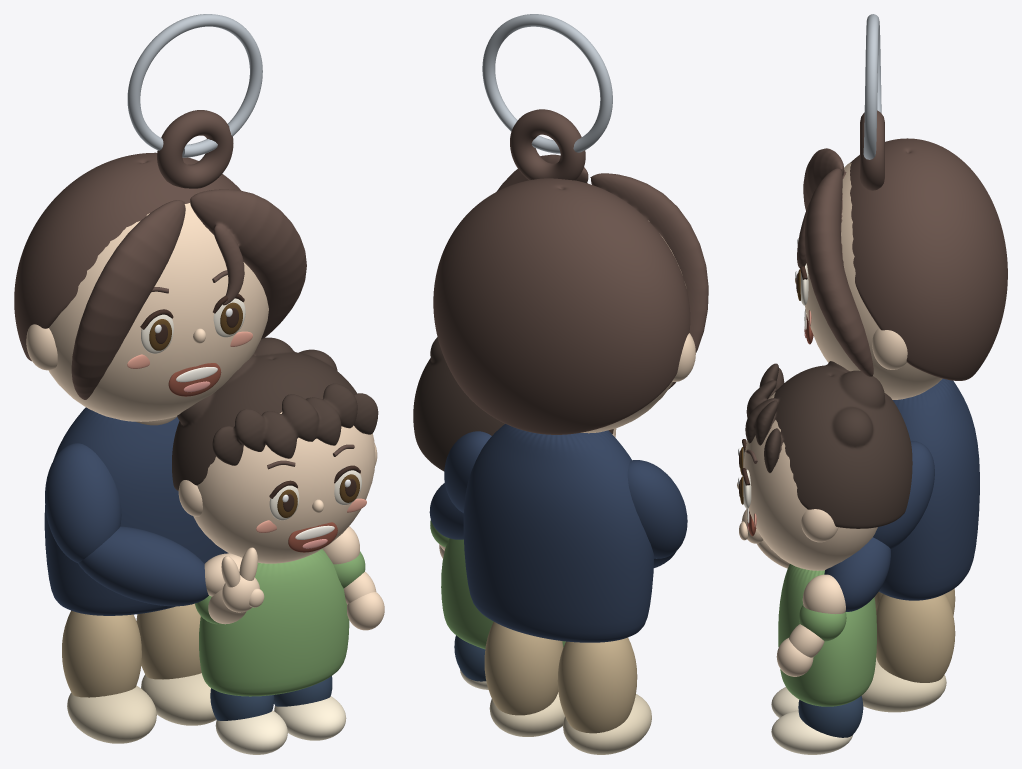
File: oyako.glb
The picture shows the model from 3 angles, left to right: view 1: azimuth 30°, elevation 25°; view 2: azimuth 150°, elevation 25°; view 3: azimuth 270°, elevation 25°; orthographic projection. The views are drawn at different scales.
Parts seen in each view (by area): view 1: Mother_sculpted_short_bob, Mother_round_head, Boy_sculpted_tousled_hair, Boy_green_shirt, Mother_navy_sweater, Boy_round_head, Mother_left_cradling_sleeve, Mother_left_upper_sleeve, Mother_left_trouser, Metal_split_ring, Mother_right_trouser, Resin_attachment_eyelet (+16 smaller); view 2: Mother_sculpted_short_bob, Mother_navy_sweater, Mother_left_trouser, Mother_right_trouser, Boy_sculpted_tousled_hair, Metal_split_ring, Mother_left_upper_sleeve, Resin_attachment_eyelet, Boy_green_shirt, Mother_left_shoe, Mother_right_upper_sleeve, Mother_right_shoe (+4 smaller); view 3: Mother_sculpted_short_bob, Boy_sculpted_tousled_hair, Mother_navy_sweater, Boy_green_shirt, Boy_round_head, Mother_right_trouser, Mother_round_head, Mother_right_lower_sleeve, Mother_right_shoe, Mother_right_upper_sleeve, Metal_split_ring, Boy_right_sneaker (+9 smaller).
Boxes of the visible parts, x1,y1,x2,y2 form: Mother_sculpted_short_bob: [14, 152, 306, 399]; Mother_round_head: [48, 203, 268, 421]; Boy_sculpted_tousled_hair: [172, 337, 378, 490]; Boy_green_shirt: [199, 549, 349, 696]; Mother_navy_sweater: [44, 407, 228, 615]; Boy_round_head: [193, 412, 375, 563]; Mother_left_cradling_sleeve: [78, 526, 208, 606]; Mother_left_upper_sleeve: [45, 443, 121, 562]; Mother_left_trouser: [62, 610, 141, 697]; Metal_split_ring: [127, 14, 262, 157]; Mother_right_trouser: [136, 603, 201, 679]; Resin_attachment_eyelet: [157, 110, 233, 188]; Mother_sculpted_short_bob: [433, 154, 708, 434]; Mother_navy_sweater: [463, 424, 654, 642]; Mother_left_trouser: [557, 637, 637, 733]; Mother_right_trouser: [484, 622, 563, 715]; Boy_sculpted_tousled_hair: [413, 337, 613, 471]; Metal_split_ring: [482, 14, 612, 153]; Mother_left_upper_sleeve: [627, 460, 687, 558]; Resin_attachment_eyelet: [510, 109, 585, 180]; Boy_green_shirt: [441, 538, 565, 649]; Mother_left_shoe: [563, 694, 651, 754]; Mother_right_upper_sleeve: [444, 431, 491, 512]; Mother_right_shoe: [489, 692, 564, 736]; Mother_sculpted_short_bob: [797, 138, 1007, 380]; Boy_sculpted_tousled_hair: [745, 361, 912, 528]; Mother_navy_sweater: [879, 378, 979, 600]; Boy_green_shirt: [778, 564, 876, 706]; Boy_round_head: [743, 392, 877, 570]; Mother_right_trouser: [876, 594, 955, 682]; Mother_round_head: [805, 162, 942, 399]; Mother_right_lower_sleeve: [824, 537, 890, 611]; Mother_right_shoe: [861, 657, 946, 712]; Mother_right_upper_sleeve: [873, 441, 934, 549]; Metal_split_ring: [863, 14, 881, 159]; Boy_right_sneaker: [771, 710, 852, 754].
Bounding box in the file's own units: 0.0319 × 0.0709 × 0.0252.
